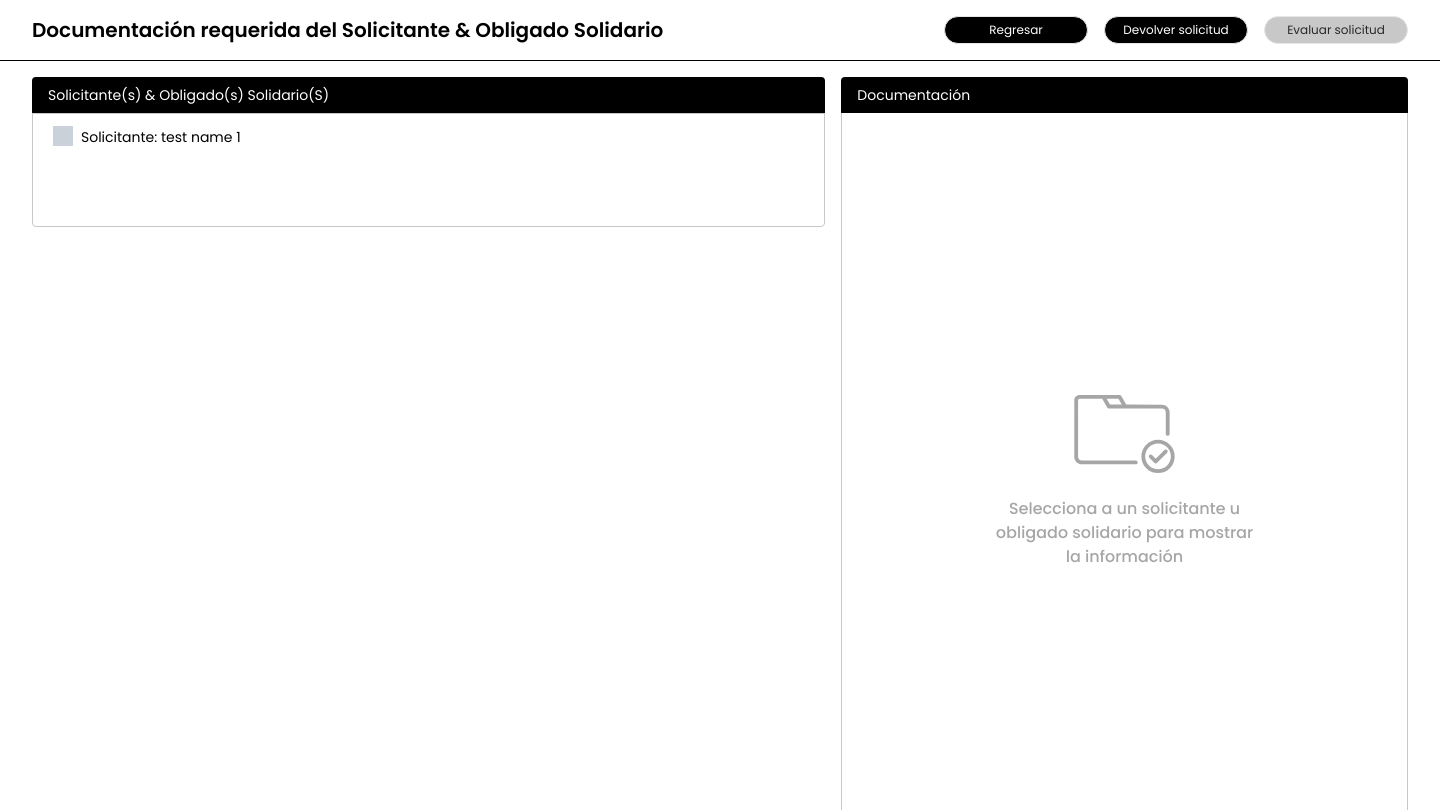
Documentation Analyst Page › when clicking on a applicant or OS from the list it should display the list of documents
This screenshot has width=1440, height=810.
What coordinates should you click on to do the following:
click the radio button labelled "Solicitante: test name 1"
I would click on:
 (63, 136)
Its box is [53, 126, 73, 146].
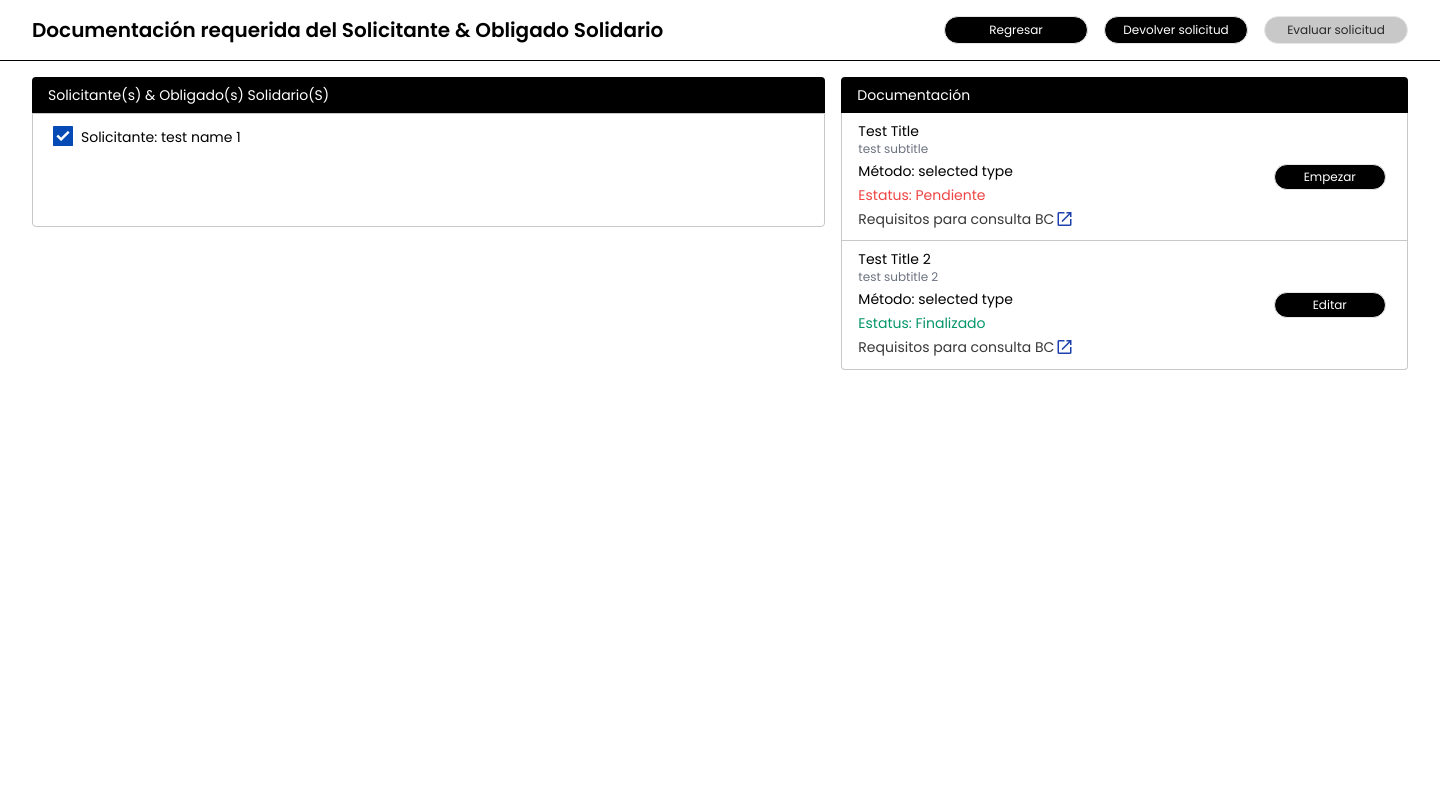
expect the heading "Test Title" is shown: met, box [858, 121, 919, 141]
